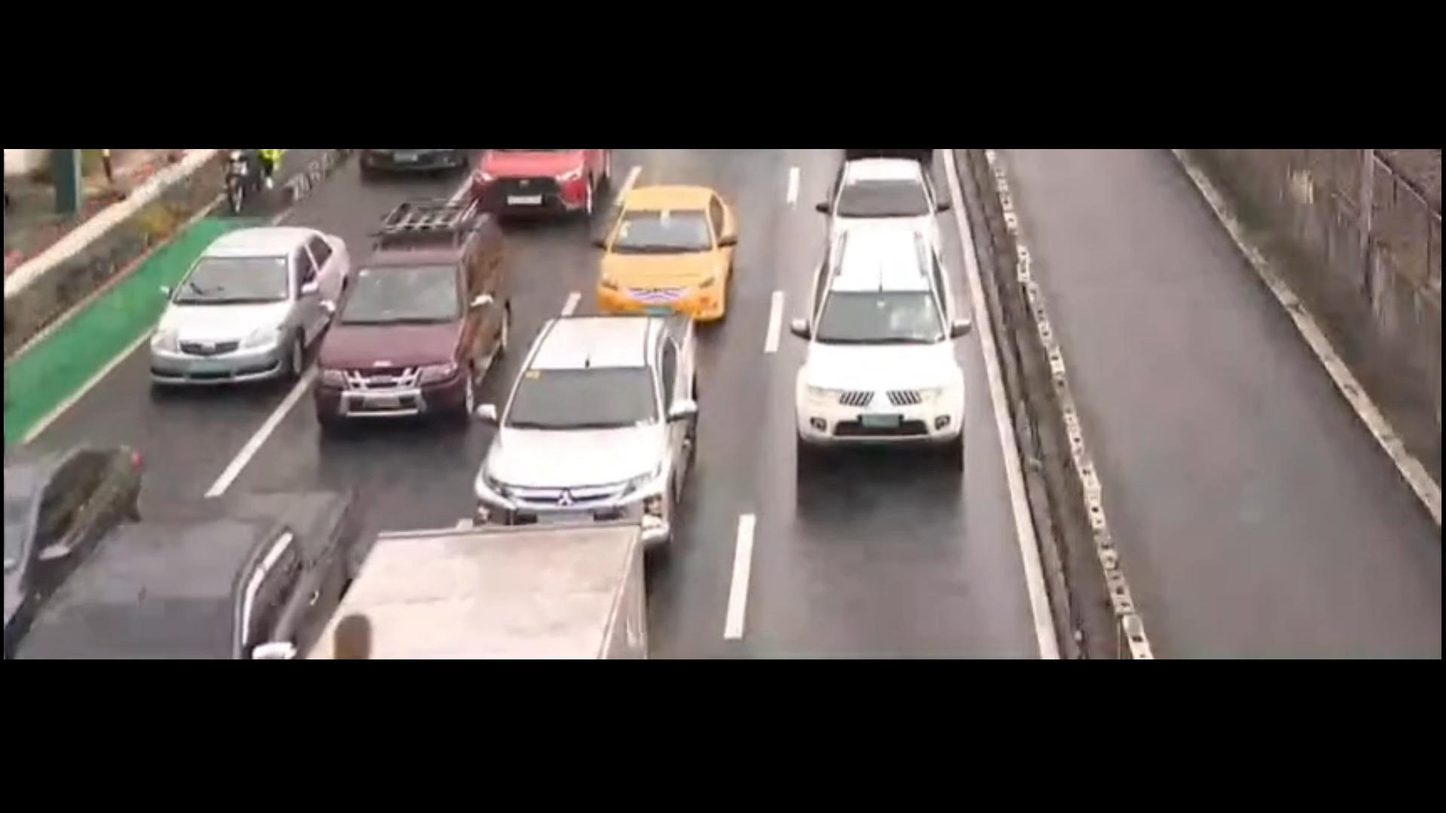Motorcycle: (209, 142, 315, 215)
Pickup: (444, 286, 735, 553), (0, 471, 388, 657)
SUV: (783, 221, 983, 464), (314, 206, 522, 432)
Sedan: (131, 202, 360, 383), (0, 420, 149, 651), (603, 187, 769, 318)
Truck: (292, 520, 671, 660)
